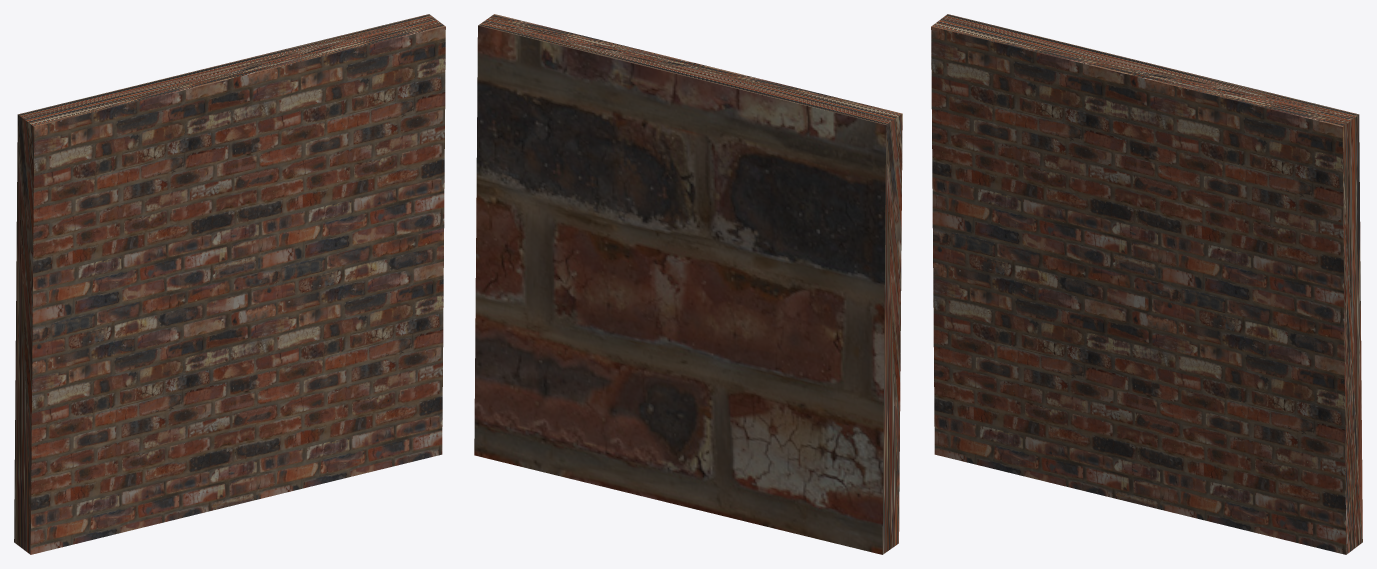
The model's file is Pared2.fbx.
3 renders of one model, left to right at view 1: azimuth 30°, elevation 25°; view 2: azimuth 150°, elevation 25°; view 3: azimuth 330°, elevation 25°, orthographic.
Visible parts, largest first — view 1: pCube2; view 2: pCube2; view 3: pCube2.
Boxes of the visible parts, x1,y1,x2,y2 form: pCube2: (14, 14, 445, 554); pCube2: (474, 14, 902, 554); pCube2: (931, 14, 1362, 554).
Size of the model in its own units: 11.93 by 11.94 by 1.01.
1 material, 1 textured.
